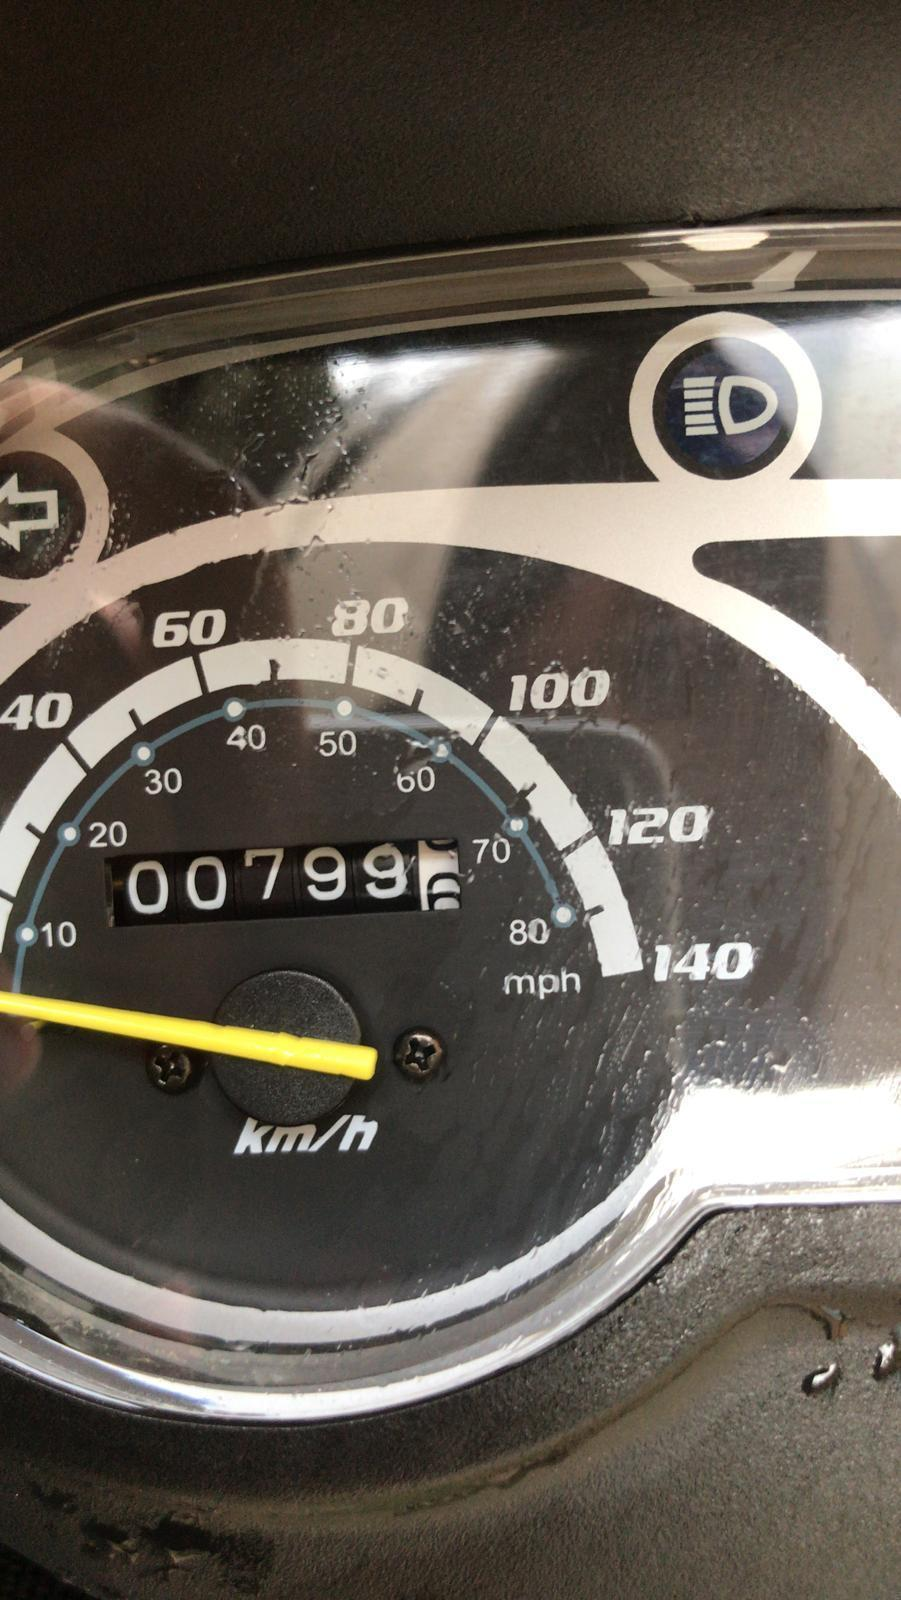0: (183, 855, 229, 912), (125, 859, 170, 915)
6: (425, 869, 465, 916)
7: (243, 846, 285, 901)
9: (301, 845, 349, 903), (361, 844, 407, 901)
odometer: (101, 834, 463, 929)
